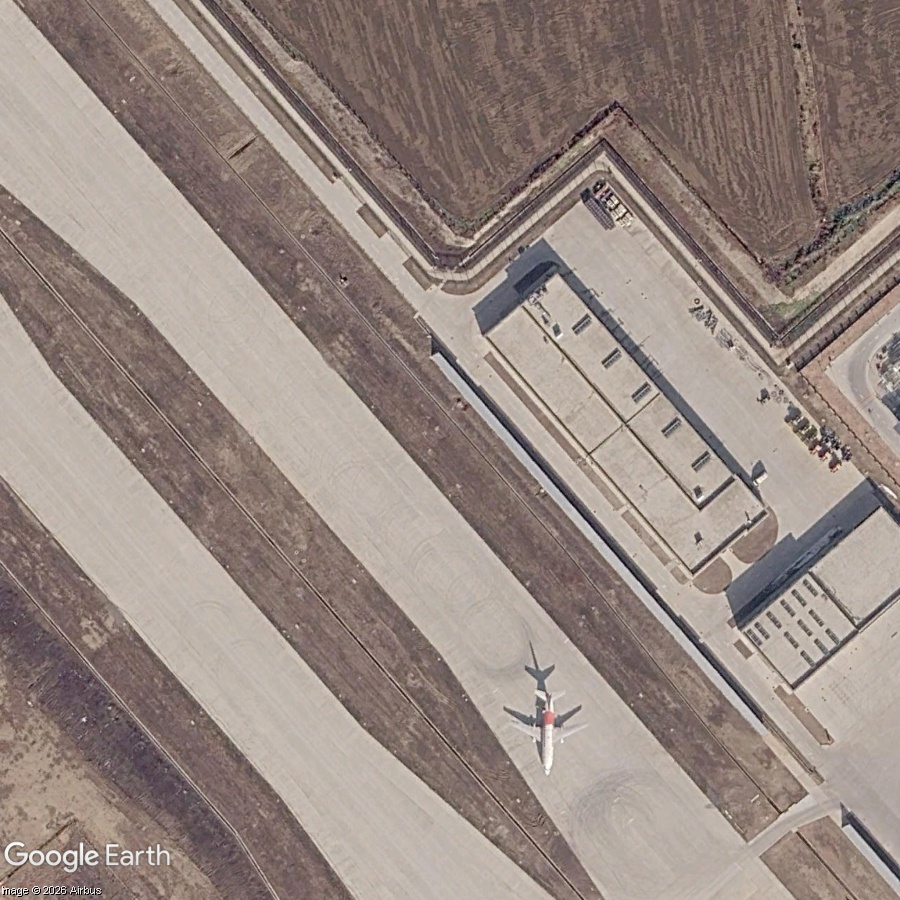Máy bay dân dụng: (508, 687, 591, 779)
